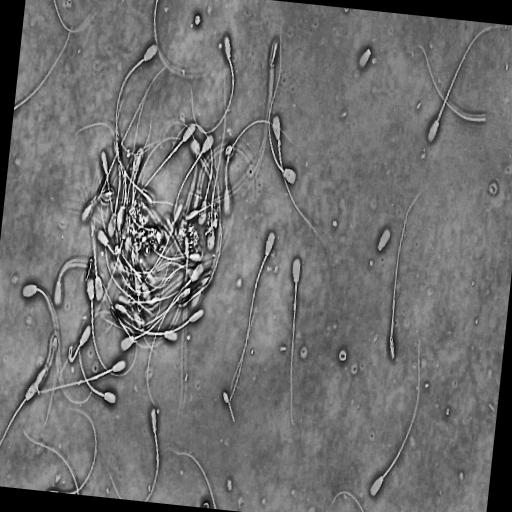coiled-tail: (68, 345, 80, 362), (123, 171, 126, 206)
dirt-particles: (193, 12, 202, 28)
distal-droplet: (173, 147, 178, 152), (156, 454, 159, 462)
loose-head: (374, 222, 394, 256), (357, 44, 374, 76)
loose-tail: (413, 40, 486, 124), (14, 24, 73, 113), (152, 0, 206, 81), (22, 425, 81, 495), (170, 445, 218, 509), (65, 405, 98, 494), (51, 0, 98, 35), (331, 490, 365, 512)
normal: (103, 200, 185, 336), (422, 24, 505, 150), (225, 229, 279, 413), (367, 328, 423, 499), (22, 281, 95, 407), (146, 263, 204, 416), (271, 114, 333, 250), (222, 119, 299, 215), (388, 186, 427, 369), (51, 254, 133, 338), (265, 26, 300, 190), (115, 37, 162, 159), (186, 32, 238, 138), (132, 122, 196, 207), (87, 276, 139, 379), (167, 119, 214, 227), (170, 134, 214, 235), (21, 357, 129, 395), (86, 136, 125, 236), (207, 64, 227, 253), (0, 376, 42, 454), (101, 149, 124, 268), (77, 342, 118, 407), (116, 309, 205, 338), (290, 254, 303, 431), (144, 406, 160, 501), (67, 322, 94, 366), (115, 168, 127, 232)
proximal-droplet: (278, 138, 281, 147)
